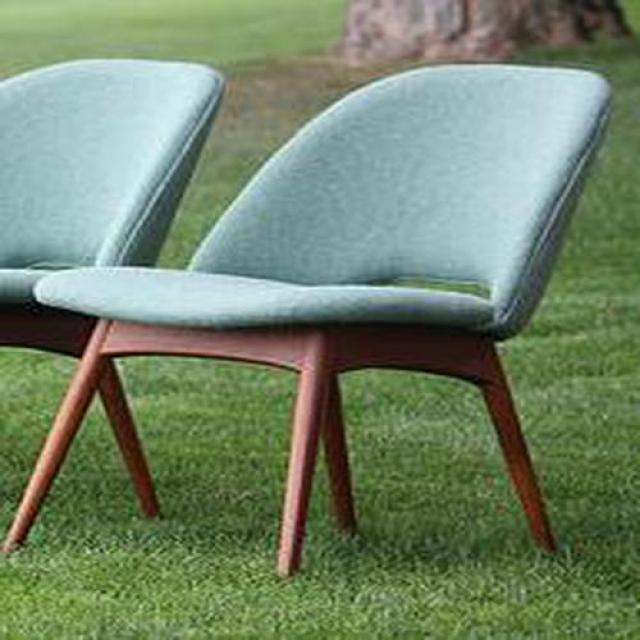chair: (0, 64, 614, 577)
